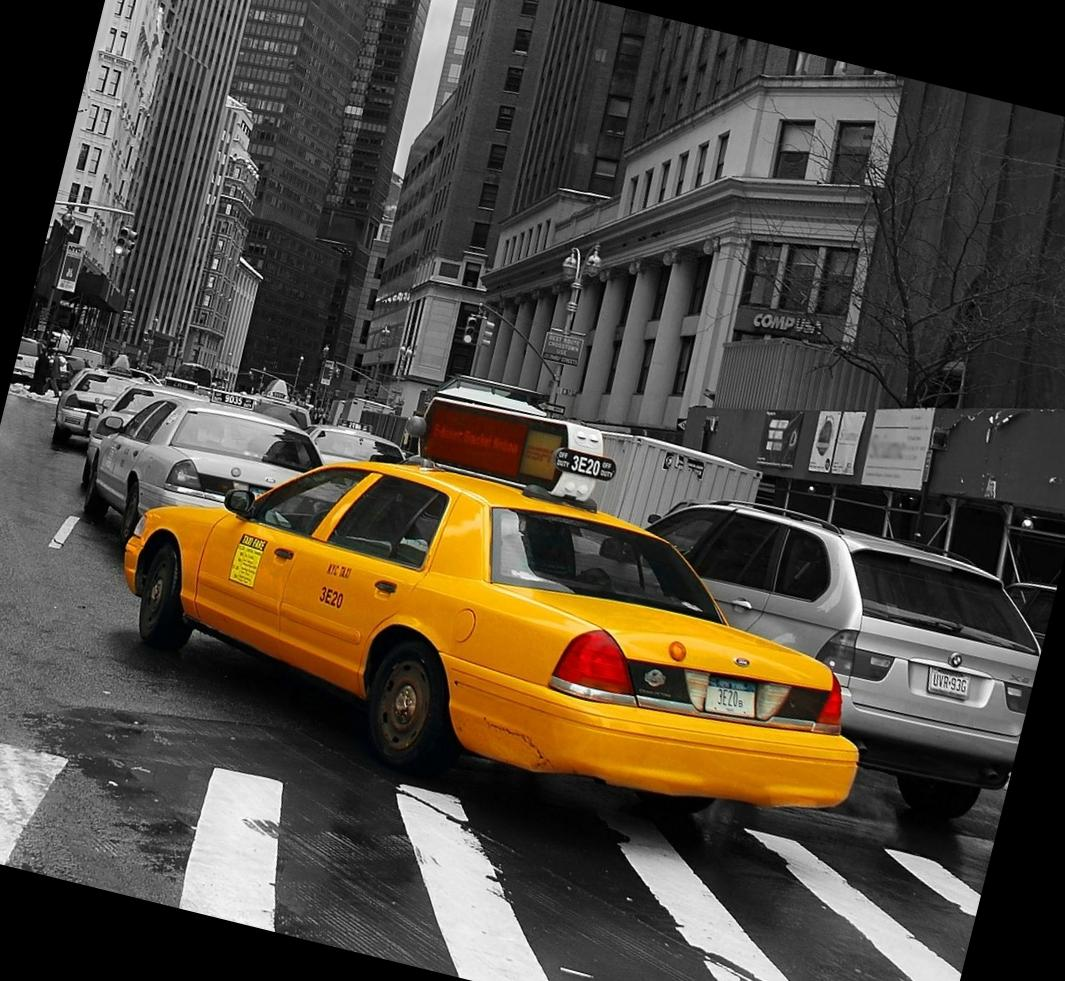taxi: (109, 440, 869, 858)
